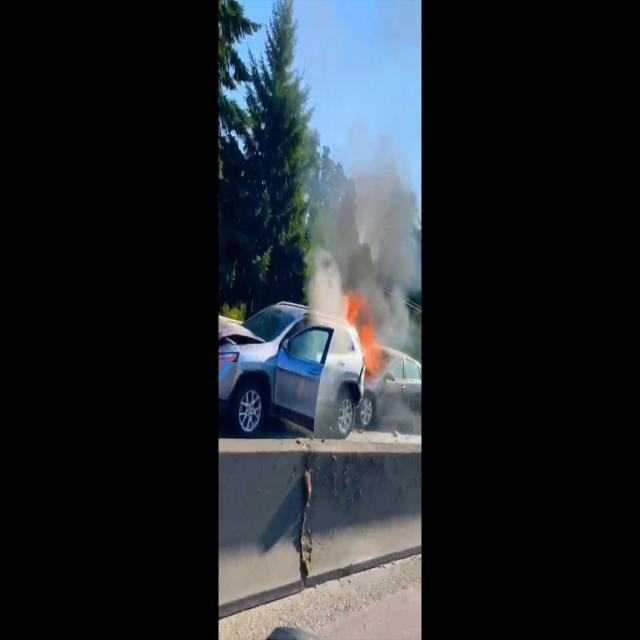fire: (342, 280, 386, 388)
